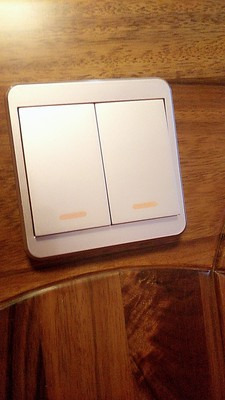switch: (14, 89, 114, 247), (92, 91, 182, 227)
